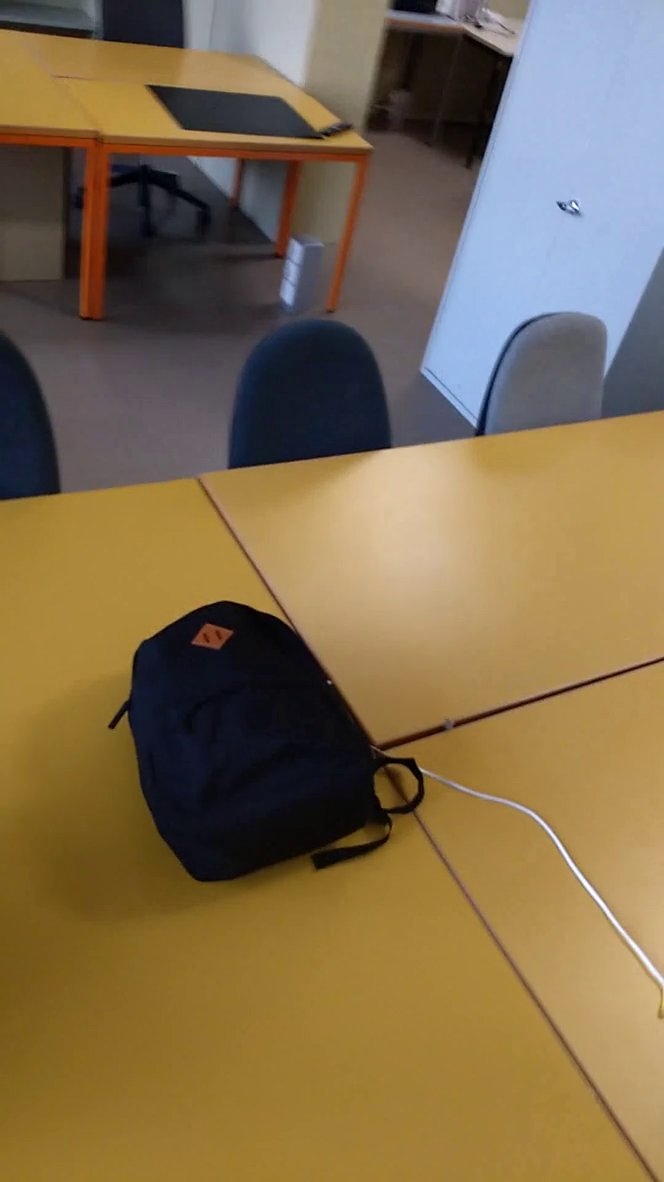bag: (101, 590, 439, 896)
chair: (204, 302, 418, 489), (468, 295, 625, 453)
